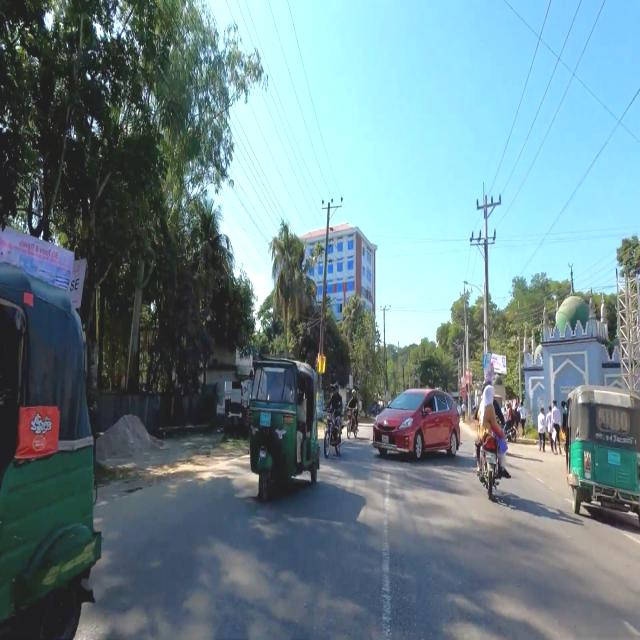red: (372, 386, 462, 460)
